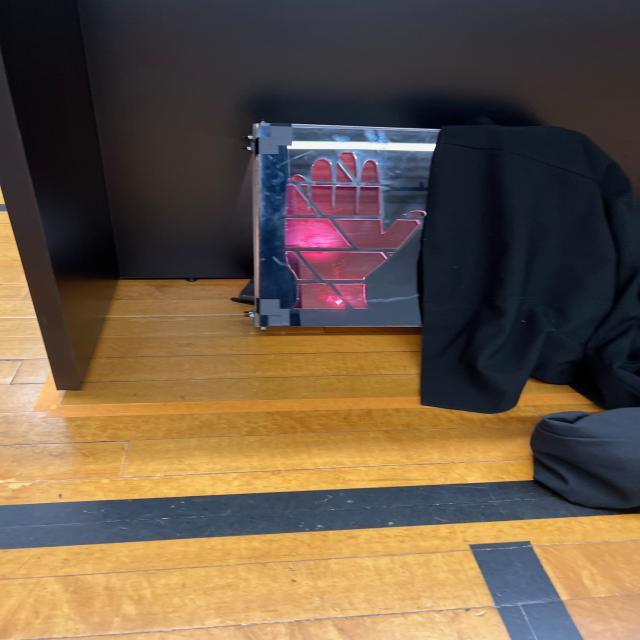stop: (255, 124, 438, 328)
